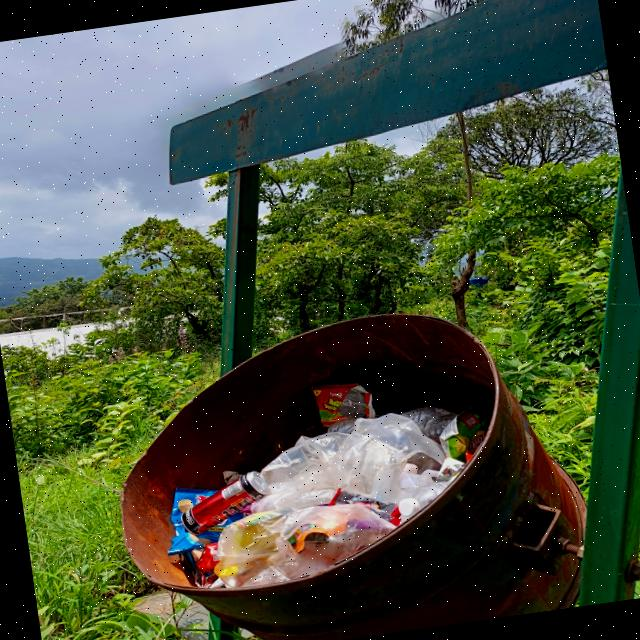garbage: (86, 338, 492, 624)
